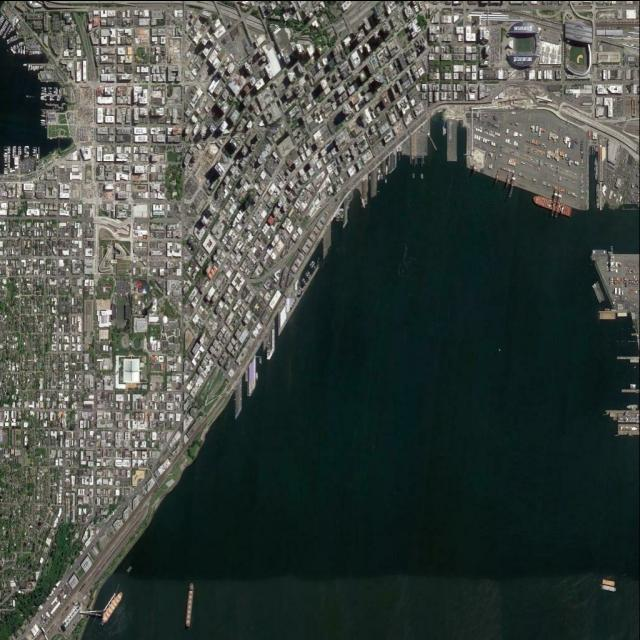ship: (532, 193, 572, 215), (102, 588, 124, 624), (186, 581, 195, 625), (594, 155, 598, 180), (597, 182, 600, 207)
